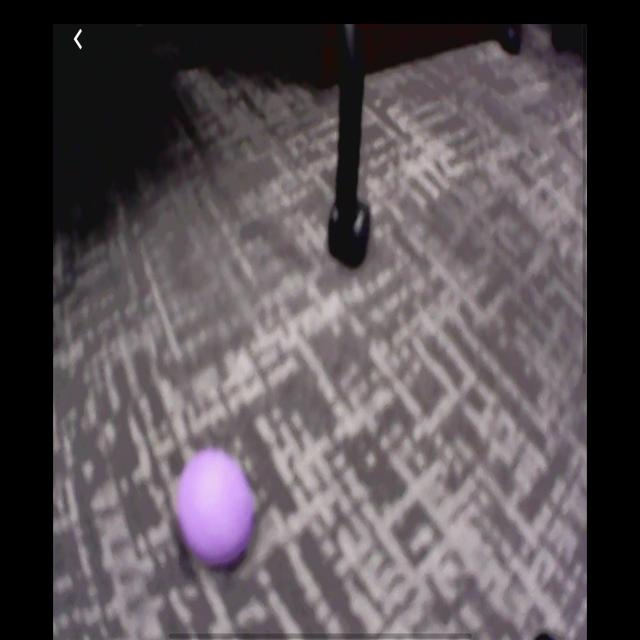ball: (176, 449, 258, 568)
